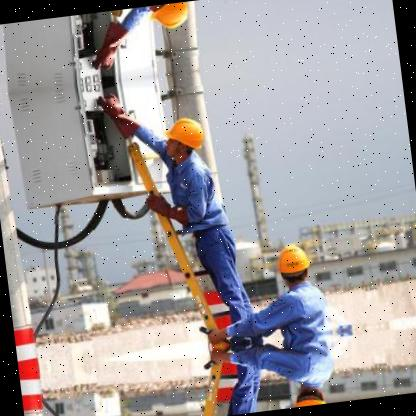capacete: (158, 110, 210, 152), (270, 235, 316, 280)
